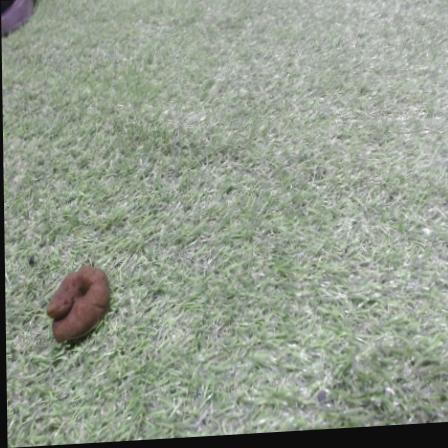dog-poop: (40, 261, 111, 350)
